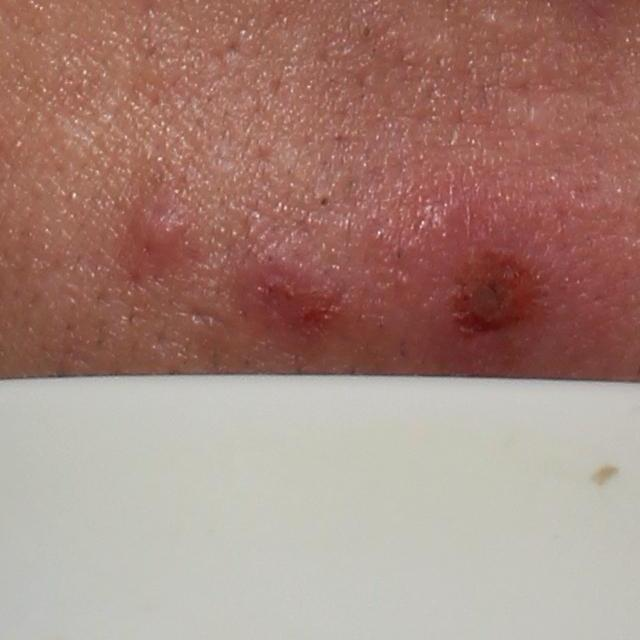comedo: (352, 13, 377, 46), (316, 193, 336, 211)
hypertrophic_scar: (51, 122, 102, 168)
papule: (228, 239, 322, 335), (125, 199, 191, 276)
